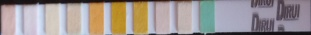color 1: (2, 6, 14, 35)
color 10: (201, 2, 213, 30)
color 2: (24, 5, 37, 35)
color 3: (46, 6, 59, 35)
color 4: (67, 4, 80, 35)
color 5: (90, 4, 103, 35)
color 6: (112, 4, 125, 35)
color 7: (134, 3, 146, 32)
color 8: (157, 3, 168, 32)
color 9: (178, 3, 190, 32)
